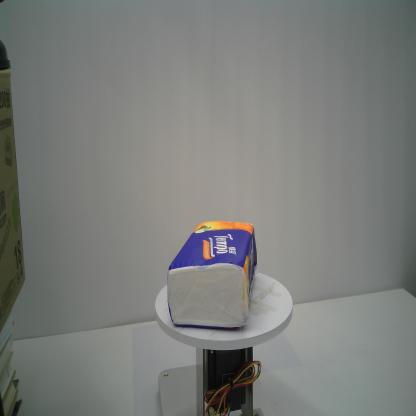Tissue: (166, 220, 258, 332)
